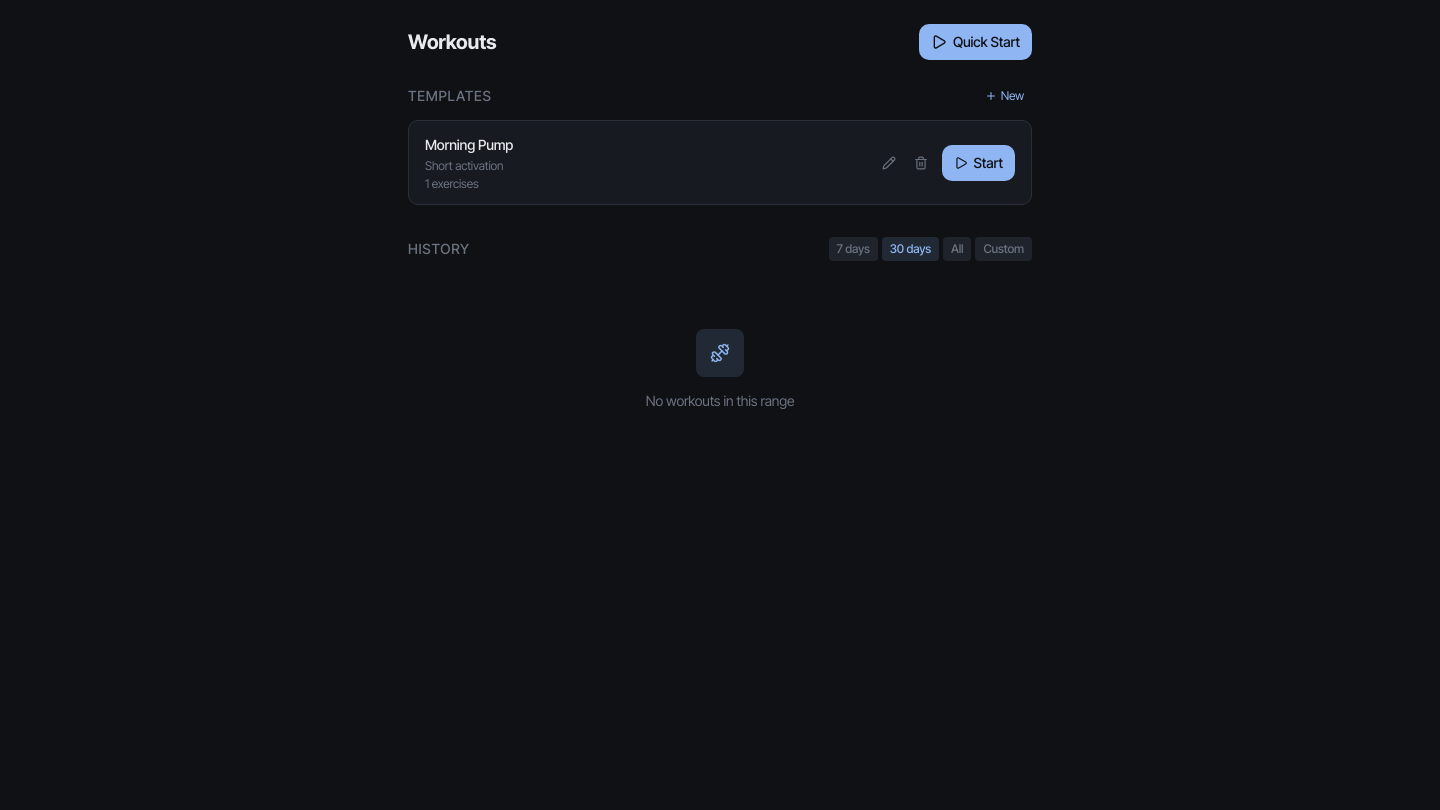
WorkoutDashboard templates › never posts a workout log while creating a template
Click the button "New" at (1004, 96), box [977,84,1032,108]
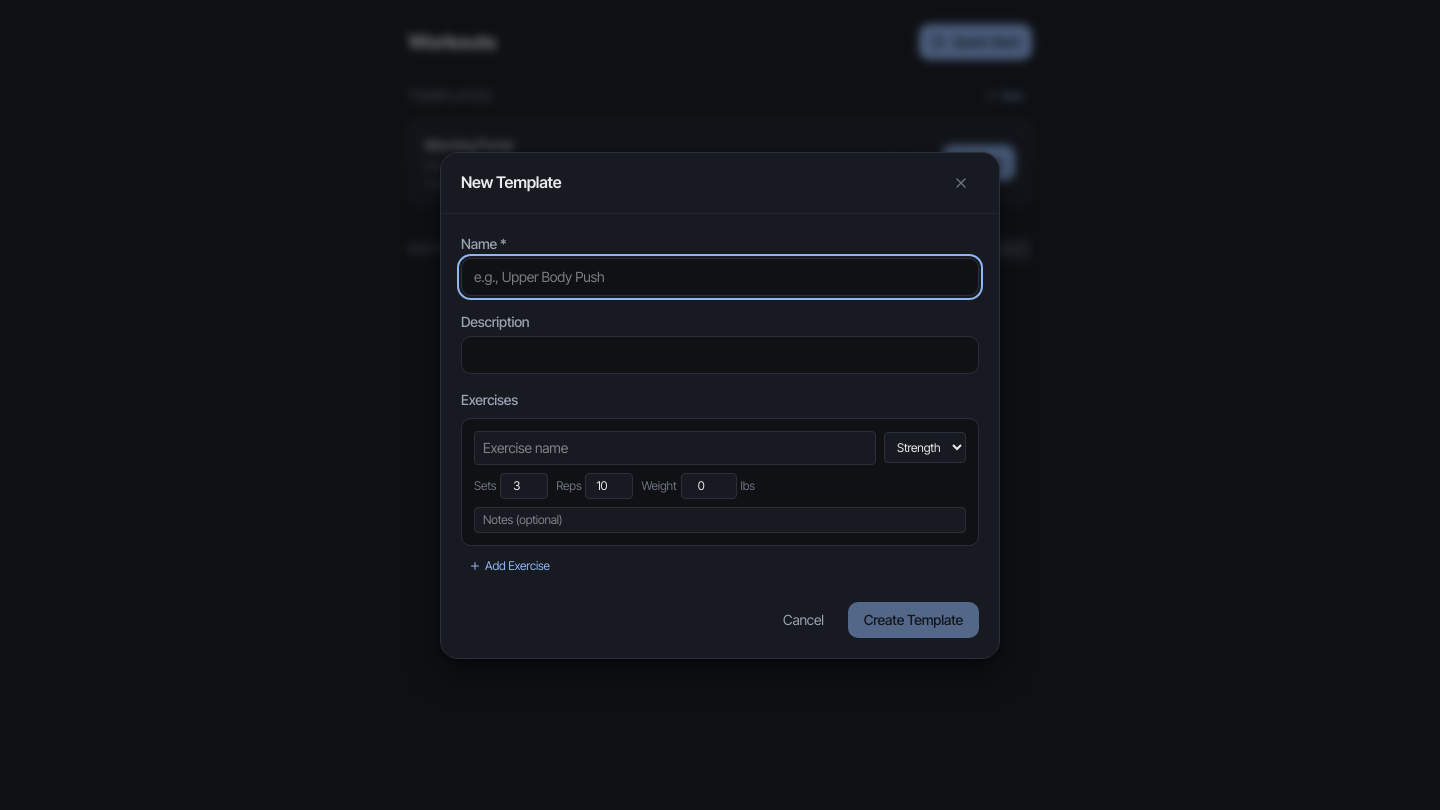
Type "Nightly Pump" into the field with placeholder "e.g., Upper Body Push" at (720, 276), box [461,258,979,296]
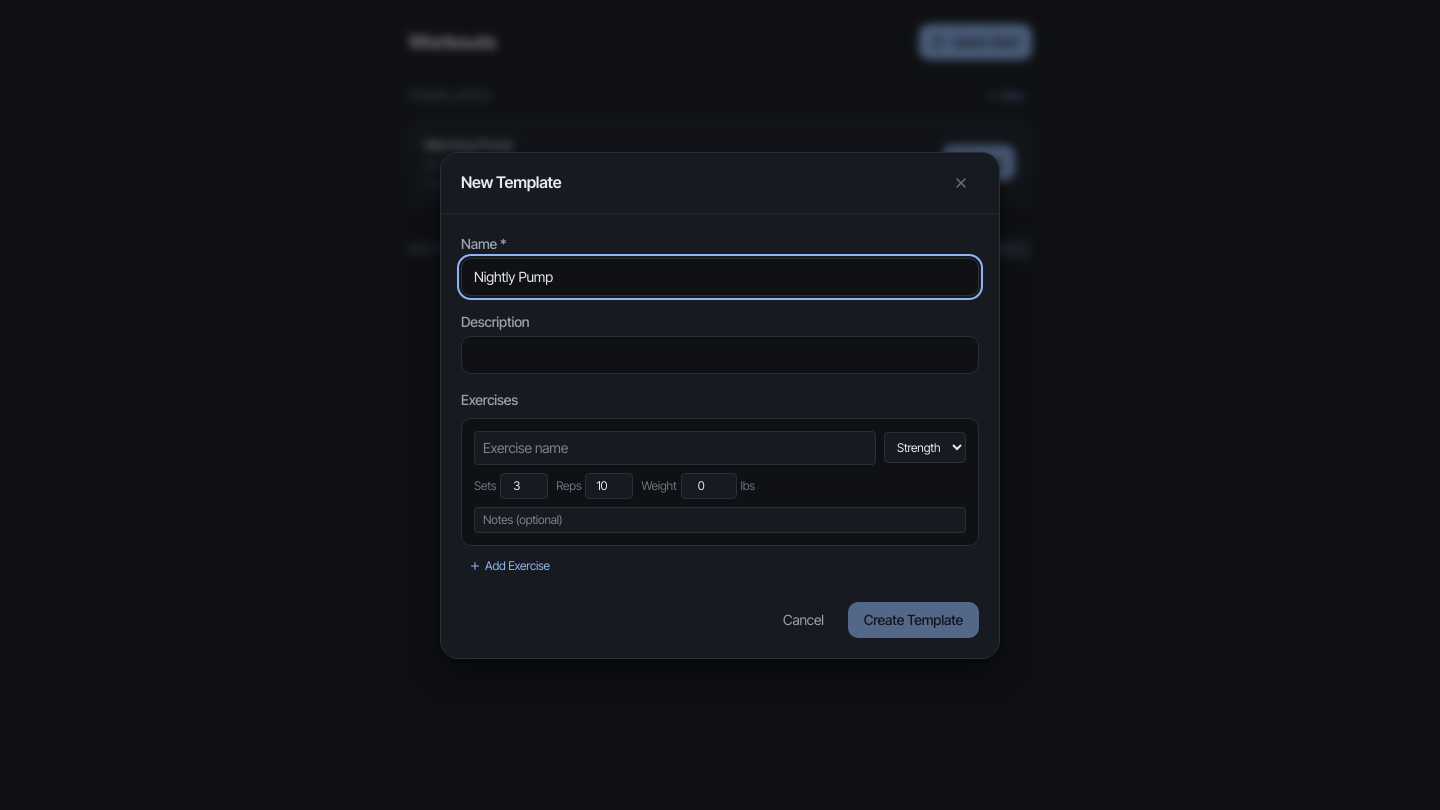
Type "Situps" into the field with placeholder "Exercise name" at (675, 448), box [474,430,876,464]
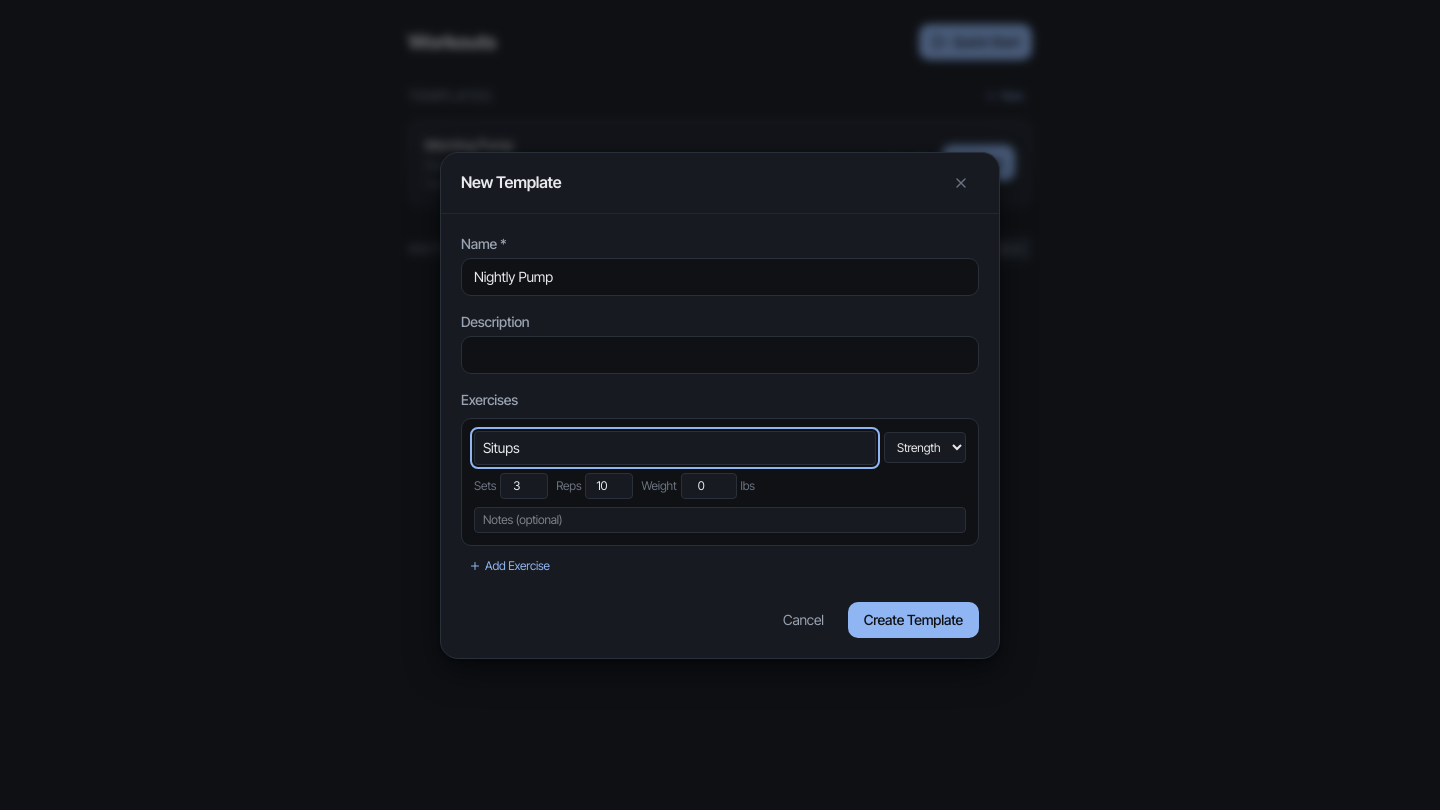
Click the button "Create Template" at (913, 620), box [848,602,979,638]
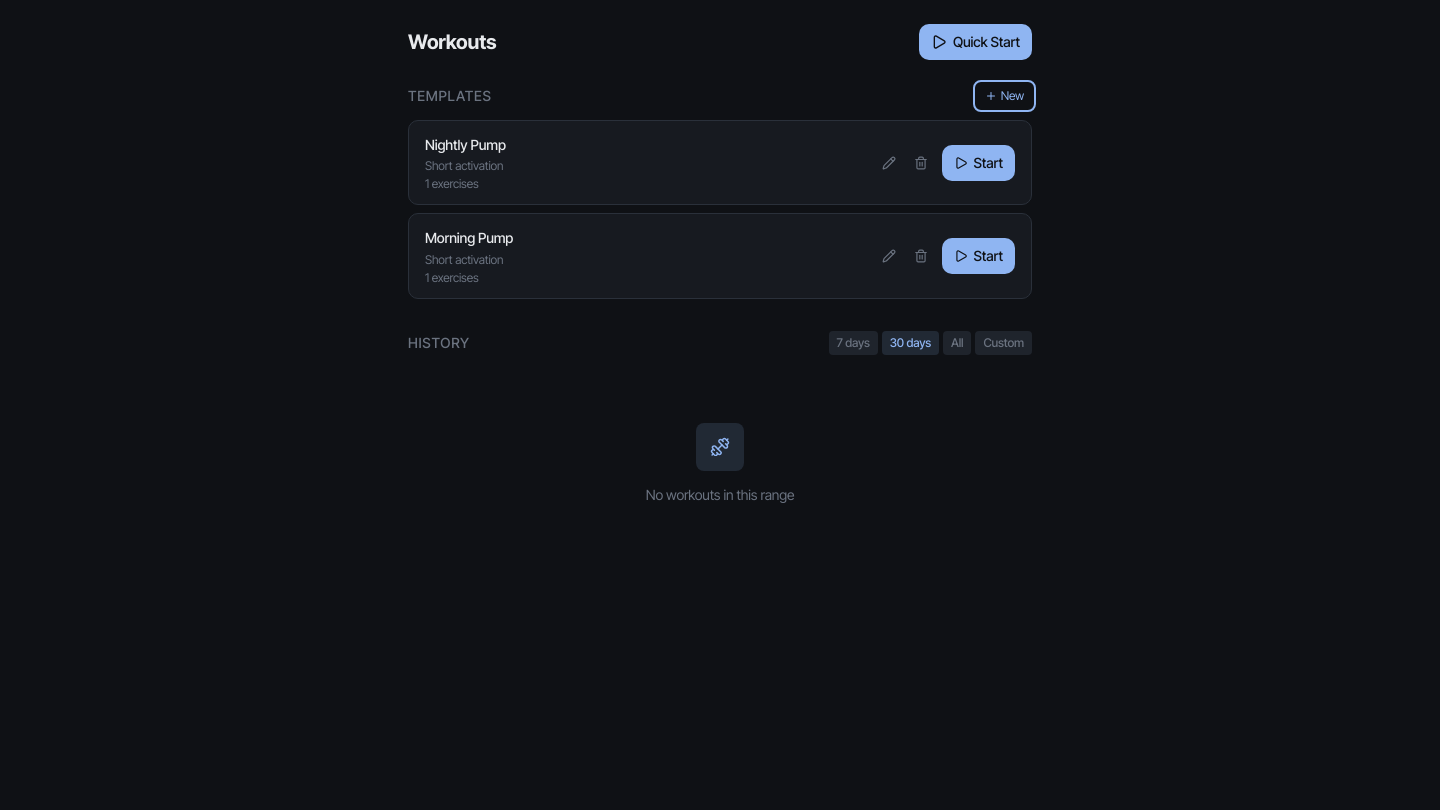
Now the text "Nightly Pump" is shown, box [425,136,506,153]
